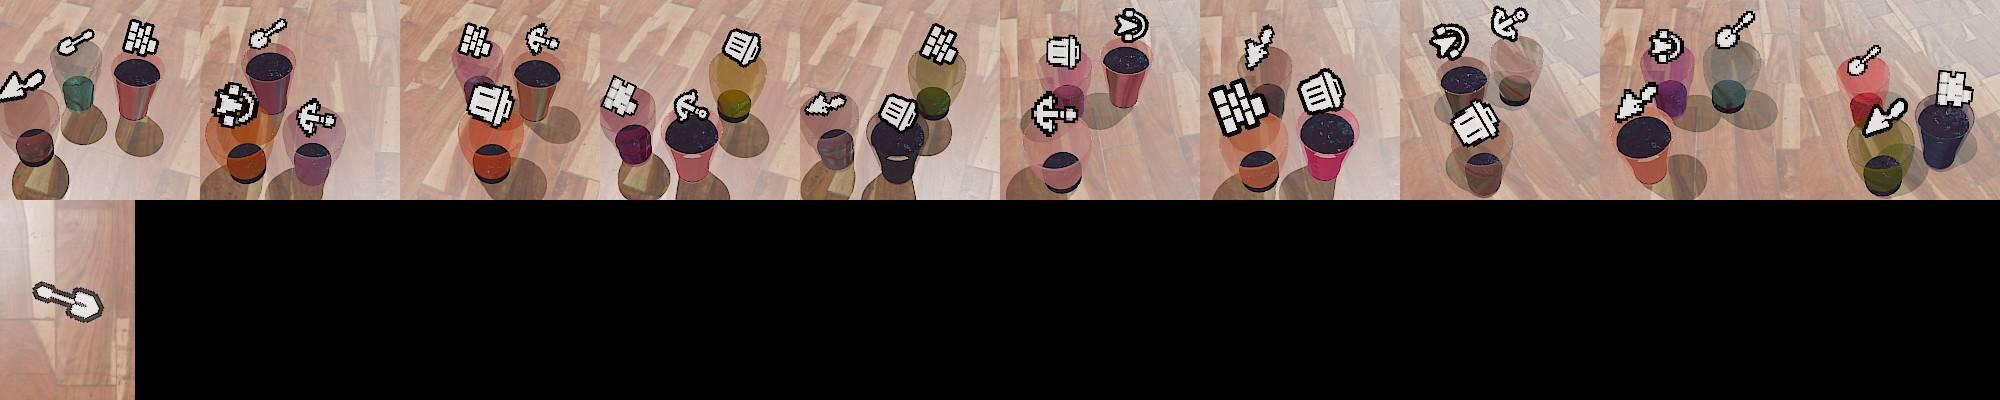icon: (1210, 76, 1269, 137), (31, 279, 105, 321), (1029, 88, 1080, 137), (1297, 67, 1346, 118), (1450, 97, 1499, 147), (210, 81, 260, 129), (465, 81, 516, 127), (1860, 95, 1912, 140), (1713, 9, 1756, 52), (918, 22, 960, 66), (877, 91, 920, 133), (1615, 83, 1659, 123), (601, 74, 641, 117), (296, 95, 339, 135), (721, 27, 762, 68), (1241, 24, 1276, 71), (1428, 21, 1468, 62), (0, 68, 46, 102), (1490, 4, 1529, 43), (1647, 26, 1685, 65), (1934, 69, 1972, 108), (457, 20, 494, 60), (122, 18, 160, 56), (1045, 33, 1082, 71), (249, 17, 289, 52), (1113, 6, 1149, 44), (673, 86, 708, 124), (524, 21, 561, 56), (803, 89, 847, 116), (56, 27, 95, 57), (1848, 44, 1882, 77)
